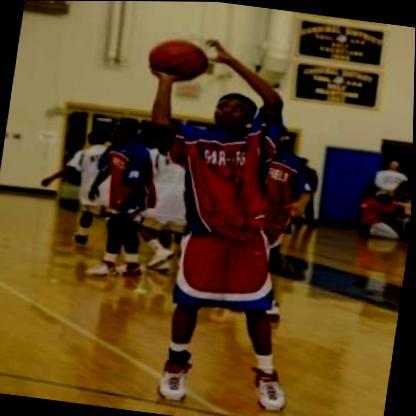basketball: (142, 32, 214, 87)
